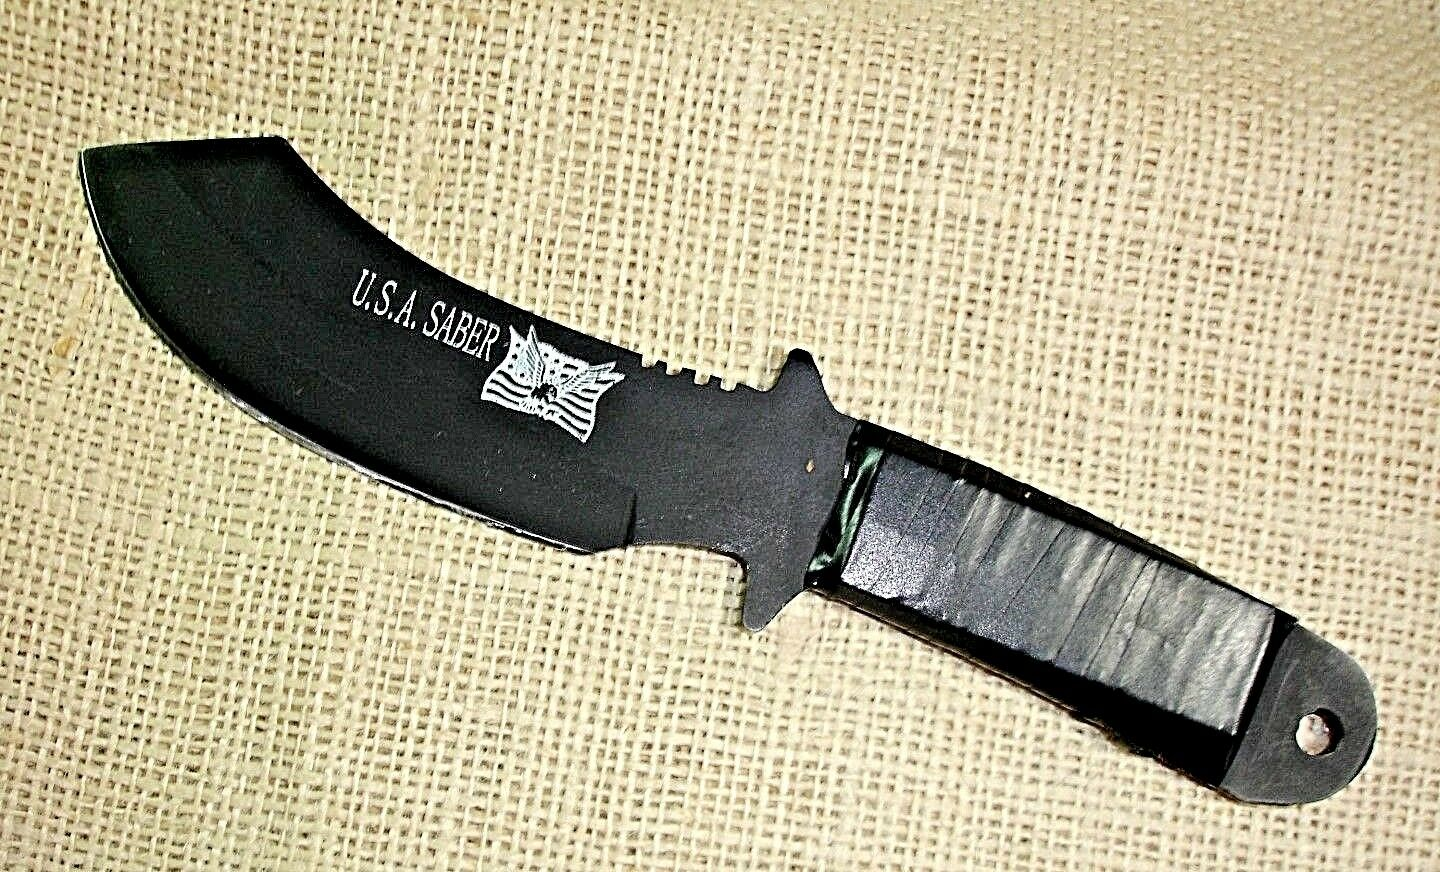knief: (65, 87, 1385, 815)
